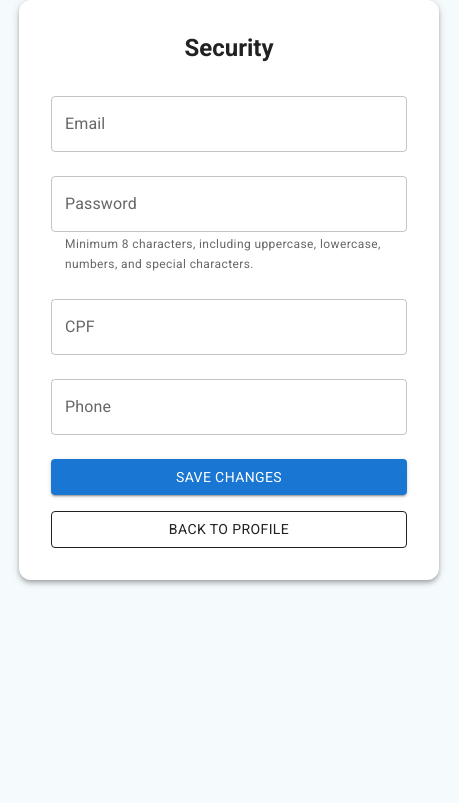
Test case: renders security form and validates fields
This screenshot has width=459, height=803.
Expected: the password field labelled "Password" is shown, [51, 176, 407, 232]
Expected: the field labelled "CPF" is shown, [51, 299, 407, 355]
Type "invalid-email" into the field labelled "Email".
click(229, 124); type("invalid-email")  # box [51, 96, 407, 152]
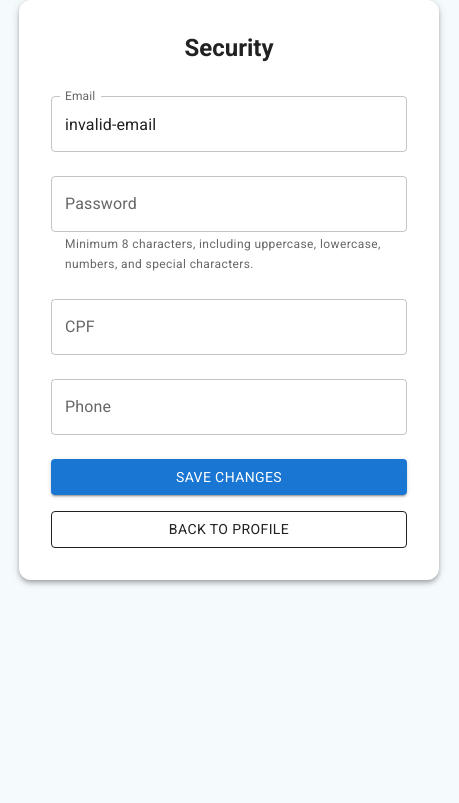
Type "123.456.789-00" into the field labelled "CPF".
click(229, 327); type("123.456.789-00")  # box [51, 299, 407, 355]
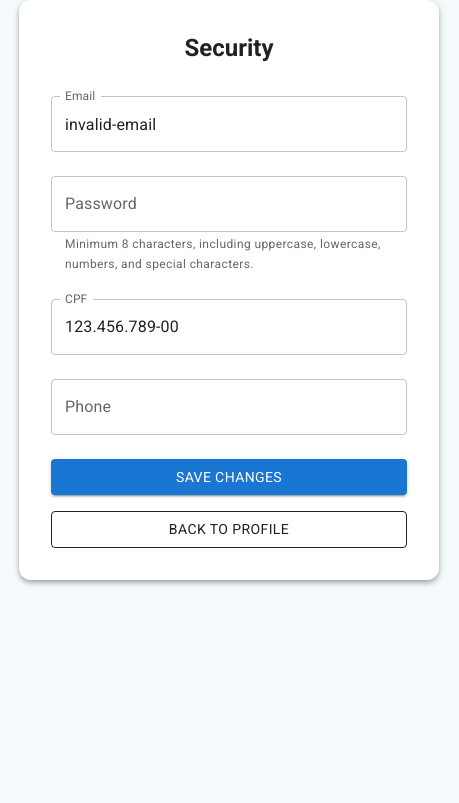
Type "(11) 91234-5678" into the field labelled "Phone".
click(229, 407); type("(11) 91234-5678")  # box [51, 379, 407, 435]
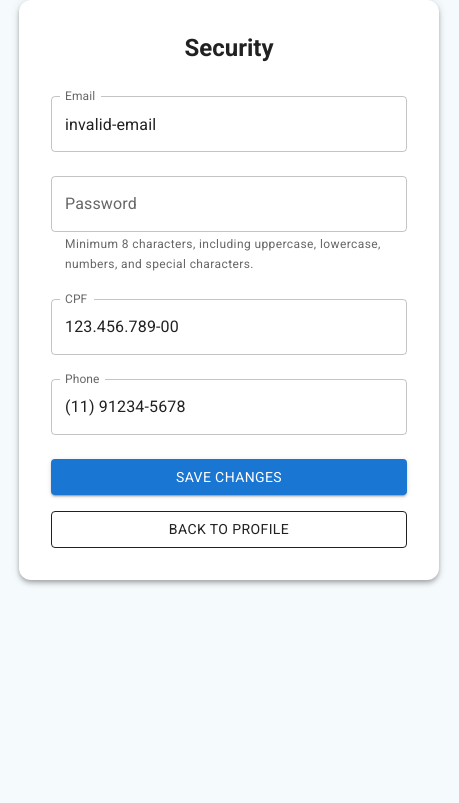
Click the button "Save Changes".
click(229, 477)  # box [51, 459, 407, 495]
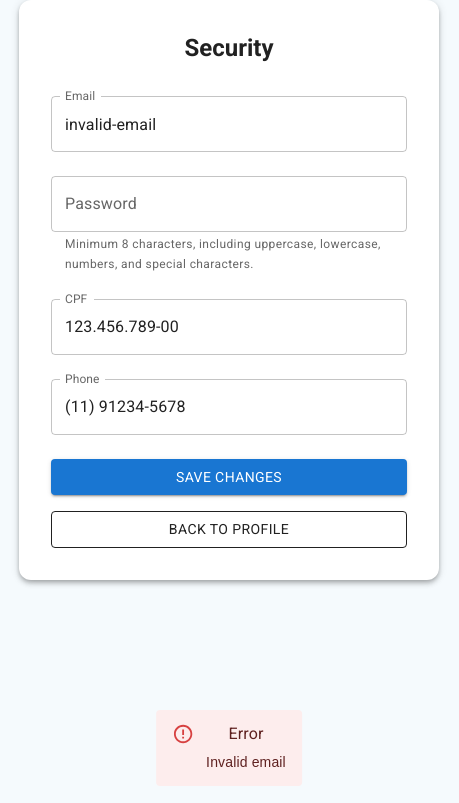
Now the text "Error Invalid email" is shown, box [206, 716, 286, 780]
